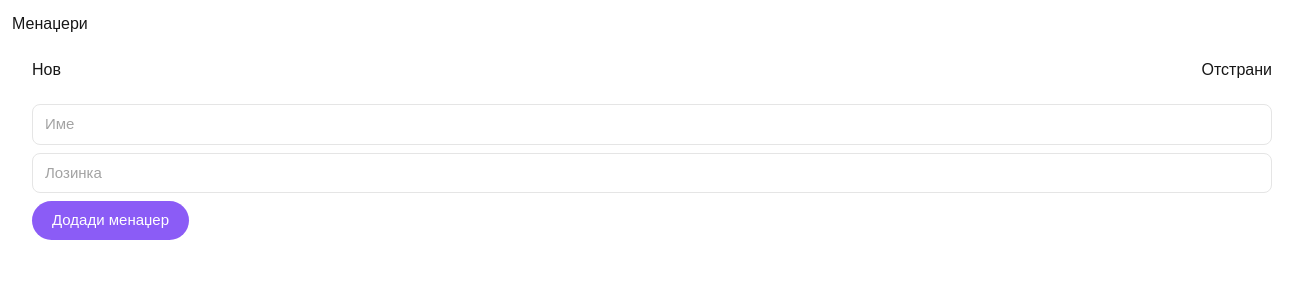
Test: ManagersSection › surfaces the server's error instead of silently ignoring a failed removal (final review finding)
Click the button "Отстрани": [1237, 70] box x1=1202 y1=58 x2=1272 y2=82
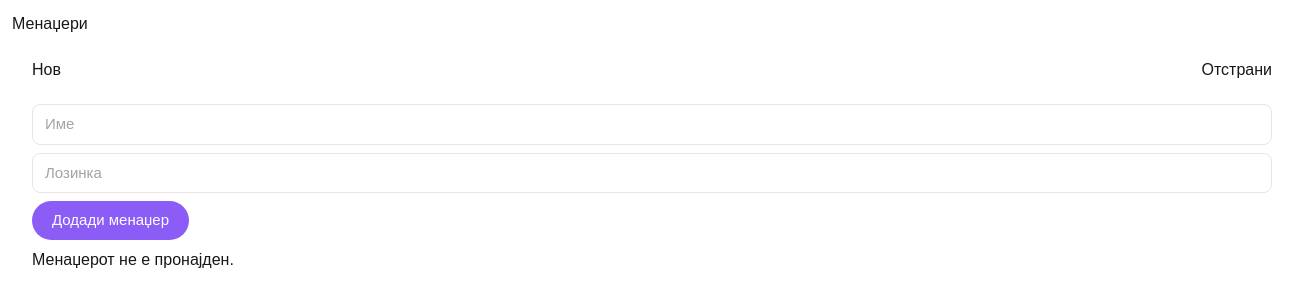
Result: the text "Менаџерот не е пронајден." is shown at x1=32 y1=250 x2=234 y2=268
